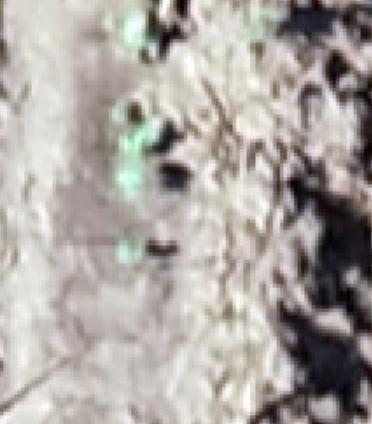cotton: (123, 160, 147, 188), (125, 18, 148, 47), (125, 128, 155, 149), (123, 241, 147, 258), (116, 102, 130, 121)
